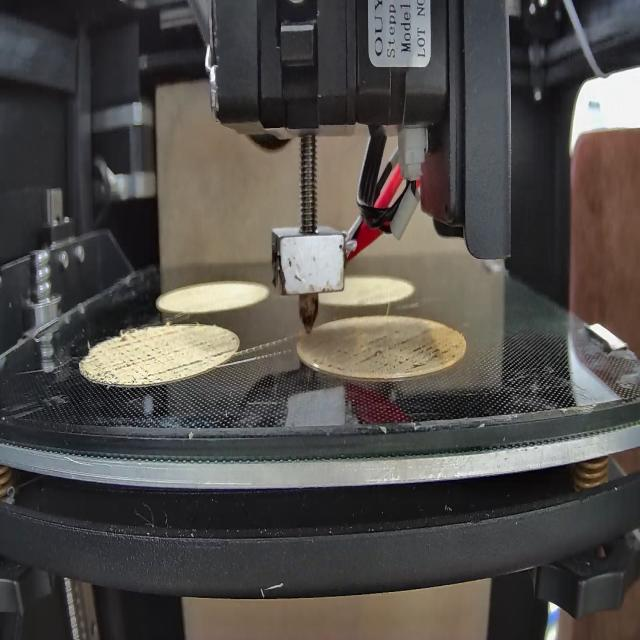under_extrusion: (314, 327, 460, 369), (85, 334, 201, 384), (205, 343, 234, 363)
